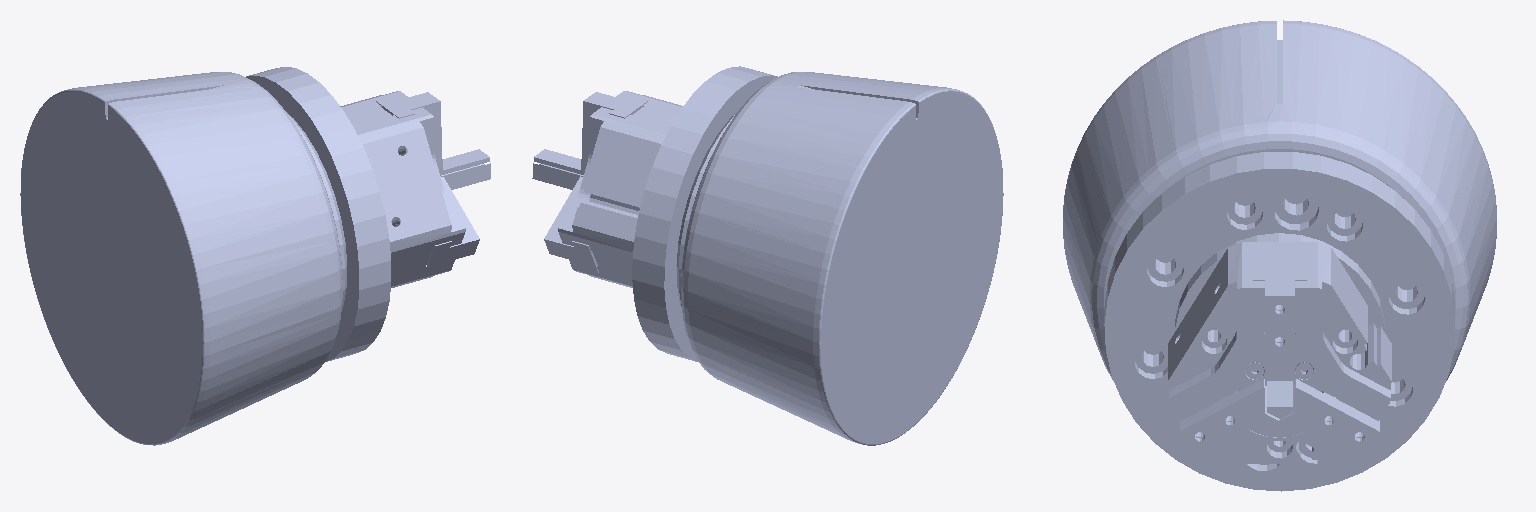
The robot description file, URDF, robot "resetrobot":
<?xml version="1.0" encoding="utf-8"?>
<!-- This URDF was automatically created by SolidWorks to URDF Exporter! Originally created by [author] ([email redacted]) 
     Commit Version: 1.6.0-1-g15f4949  Build Version: 1.6.7594.29634
     For more information, please see http://wiki.ros.org/sw_urdf_exporter -->
<robot
  name="resetrobot">
  <link
    name="base_link">
    <inertial>
      <origin
        xyz="-0.048537 7.2262E-08 0.084952"
        rpy="0 0 0" />
      <mass
        value="21.435" />
      <inertia
        ixx="0.20713"
        ixy="2.0266E-07"
        ixz="0.0078532"
        iyy="0.40868"
        iyz="6.1248E-08"
        izz="0.50173" />
    </inertial>
    <visual>
      <origin
        xyz="0 0 0"
        rpy="0 0 0" />
      <geometry>
        <mesh
          filename="package://resetrobot/meshes/base_link.STL" />
      </geometry>
      <material
        name="">
        <color
          rgba="0.79216 0.81961 0.93333 1" />
      </material>
    </visual>
    <collision>
      <origin
        xyz="0 0 0"
        rpy="0 0 0" />
      <geometry>
        <mesh
          filename="package://resetrobot/meshes/base_link.STL" />
      </geometry>
    </collision>
  </link>
  <link
    name="link_1">
    <inertial>
      <origin
        xyz="0.058504 0.018758 0.15092"
        rpy="0 0 0" />
      <mass
        value="25.307" />
      <inertia
        ixx="0.32227"
        ixy="-0.047774"
        ixz="-0.10939"
        iyy="0.51973"
        iyz="-0.023513"
        izz="0.48216" />
    </inertial>
    <visual>
      <origin
        xyz="0 0 0"
        rpy="0 0 0" />
      <geometry>
        <mesh
          filename="package://resetrobot/meshes/link_1.STL" />
      </geometry>
      <material
        name="">
        <color
          rgba="0.79216 0.81961 0.93333 1" />
      </material>
    </visual>
    <collision>
      <origin
        xyz="0 0 0"
        rpy="0 0 0" />
      <geometry>
        <mesh
          filename="package://resetrobot/meshes/link_1.STL" />
      </geometry>
    </collision>
  </link>
  <joint
    name="joint_1"
    type="revolute">
    <origin
      xyz="0 0 0.181"
      rpy="0 0 0" />
    <parent
      link="base_link" />
    <child
      link="link_1" />
    <axis
      xyz="0 0 1" />
    <limit
      lower="-2.87979327"
      upper="2.87979327"
      effort="0"
      velocity="0" />
  </joint>
  <link
    name="link_2">
    <inertial>
      <origin
        xyz="-0.016063 -0.28254 -0.079384"
        rpy="0 0 0" />
      <mass
        value="15.157" />
      <inertia
        ixx="0.85409"
        ixy="-0.0085112"
        ixz="-0.0041072"
        iyy="0.059494"
        iyz="-0.0050587"
        izz="0.86172" />
    </inertial>
    <visual>
      <origin
        xyz="0 0 0"
        rpy="0 0 0" />
      <geometry>
        <mesh
          filename="package://resetrobot/meshes/link_2.STL" />
      </geometry>
      <material
        name="">
        <color
          rgba="0.79216 0.81961 0.93333 1" />
      </material>
    </visual>
    <collision>
      <origin
        xyz="0 0 0"
        rpy="0 0 0" />
      <geometry>
        <mesh
          filename="package://resetrobot/meshes/link_2.STL" />
      </geometry>
    </collision>
  </link>
  <joint
    name="joint_2"
    type="revolute">
    <origin
      xyz="0.16933 -0.1005 0.21703"
      rpy="-1.5708 0 0" />
    <parent
      link="link_1" />
    <child
      link="link_2" />
    <axis
      xyz="0 0 1" />
    <limit
      lower="-1.65806279"
      upper="1.22173048"
      effort="0"
      velocity="0" />
  </joint>
  <link
    name="link_3">
    <inertial>
      <origin
        xyz="0.0062446 -0.075744 0.11093"
        rpy="0 0 0" />
      <mass
        value="9.9716" />
      <inertia
        ixx="0.10459"
        ixy="0.0035018"
        ixz="0.00046279"
        iyy="0.063616"
        iyz="-0.0056135"
        izz="0.10657" />
    </inertial>
    <visual>
      <origin
        xyz="0 0 0"
        rpy="0 0 0" />
      <geometry>
        <mesh
          filename="package://resetrobot/meshes/link_3.STL" />
      </geometry>
      <material
        name="">
        <color
          rgba="0.79216 0.81961 0.93333 1" />
      </material>
    </visual>
    <collision>
      <origin
        xyz="0 0 0"
        rpy="0 0 0" />
      <geometry>
        <mesh
          filename="package://resetrobot/meshes/link_3.STL" />
      </geometry>
    </collision>
  </link>
  <joint
    name="joint_3"
    type="revolute">
    <origin
      xyz="0 -0.65 0"
      rpy="0 0 0" />
    <parent
      link="link_2" />
    <child
      link="link_3" />
    <axis
      xyz="0 0 1" />
    <limit
      lower="-1.48352986"
      upper="1.65806279"
      effort="0"
      velocity="0" />
  </joint>
  <link
    name="link_4">
    <inertial>
      <origin
        xyz="1.0311E-07 -0.0077856 0.27219"
        rpy="0 0 0" />
      <mass
        value="5.2559" />
      <inertia
        ixx="0.10349"
        ixy="1.103E-10"
        ixz="2.5492E-09"
        iyy="0.09162"
        iyz="0.0033244"
        izz="0.020021" />
    </inertial>
    <visual>
      <origin
        xyz="0 0 0"
        rpy="0 0 0" />
      <geometry>
        <mesh
          filename="package://resetrobot/meshes/link_4.STL" />
      </geometry>
      <material
        name="">
        <color
          rgba="0.79216 0.81961 0.93333 1" />
      </material>
    </visual>
    <collision>
      <origin
        xyz="0 0 0"
        rpy="0 0 0" />
      <geometry>
        <mesh
          filename="package://resetrobot/meshes/link_4.STL" />
      </geometry>
    </collision>
  </link>
  <joint
    name="joint_4"
    type="revolute">
    <origin
      xyz="0.131 -0.15574 0.1035"
      rpy="-1.5708 0 -1.5708" />
    <parent
      link="link_3" />
    <child
      link="link_4" />
    <axis
      xyz="0 0 1" />
    <limit
      lower="-3.14159265"
      upper="3.14159265"
      effort="0"
      velocity="0" />
  </joint>
  <link
    name="link_5">
    <inertial>
      <origin
        xyz="0.0010269 0.030968 -2.2367E-10"
        rpy="0 0 0" />
      <mass
        value="1.2009" />
      <inertia
        ixx="0.003095"
        ixy="-5.2043E-05"
        ixz="5.0414E-10"
        iyy="0.0015215"
        iyz="-1.6327E-11"
        izz="0.00339" />
    </inertial>
    <visual>
      <origin
        xyz="0 0 0"
        rpy="0 0 0" />
      <geometry>
        <mesh
          filename="package://resetrobot/meshes/link_5.STL" />
      </geometry>
      <material
        name="">
        <color
          rgba="0.79216 0.81961 0.93333 1" />
      </material>
    </visual>
    <collision>
      <origin
        xyz="0 0 0"
        rpy="0 0 0" />
      <geometry>
        <mesh
          filename="package://resetrobot/meshes/link_5.STL" />
      </geometry>
    </collision>
  </link>
  <joint
    name="joint_5"
    type="revolute">
    <origin
      xyz="0 0 0.424"
      rpy="1.5708 0 0" />
    <parent
      link="link_4" />
    <child
      link="link_5" />
    <axis
      xyz="0 0 1" />
    <limit
      lower="-2.00712864"
      upper="2.00712864"
      effort="0"
      velocity="0" />
  </joint>
  <link
    name="link_6">
    <inertial>
      <origin
        xyz="0.00077739 6.5833E-16 0.023913"
        rpy="0 0 0" />
      <mass
        value="0.33812" />
      <inertia
        ixx="0.00025389"
        ixy="-6.1509E-18"
        ixz="3.5816E-06"
        iyy="0.00025346"
        iyz="-1.7043E-17"
        izz="0.00036354" />
    </inertial>
    <visual>
      <origin
        xyz="0 0 0"
        rpy="0 0 0" />
      <geometry>
        <mesh
          filename="package://resetrobot/meshes/link_6.STL" />
      </geometry>
      <material
        name="">
        <color
          rgba="0.79216 0.81961 0.93333 1" />
      </material>
    </visual>
    <collision>
      <origin
        xyz="0 0 0"
        rpy="0 0 0" />
      <geometry>
        <mesh
          filename="package://resetrobot/meshes/link_6.STL" />
      </geometry>
    </collision>
  </link>
  <joint
    name="joint_6"
    type="revolute">
    <origin
      xyz="0.0036667 0.10994 0"
      rpy="-1.5708 0 0" />
    <parent
      link="link_5" />
    <child
      link="link_6" />
    <axis
      xyz="0.033333 0 0.99944" />
    <limit
      lower="-6.2832"
      upper="6.2832"
      effort="0"
      velocity="0" />
  </joint>
  <link
    name="last_link">
    <inertial>
      <origin
        xyz="-1.6876E-05 -2.9501E-05 0.0067938"
        rpy="0 0 0" />
      <mass
        value="0.046343" />
      <inertia
        ixx="1.9745E-05"
        ixy="-1.1087E-07"
        ixz="2.1962E-09"
        iyy="1.8881E-05"
        iyz="3.8641E-09"
        izz="3.727E-05" />
    </inertial>
    <visual>
      <origin
        xyz="0 0 0"
        rpy="0 0 0" />
      <geometry>
        <mesh
          filename="package://resetrobot/meshes/last_link.STL" />
      </geometry>
      <material
        name="">
        <color
          rgba="0.79216 0.81961 0.93333 1" />
      </material>
    </visual>
    <collision>
      <origin
        xyz="0 0 0"
        rpy="0 0 0" />
      <geometry>
        <mesh
          filename="package://resetrobot/meshes/last_link.STL" />
      </geometry>
    </collision>
  </link>
  <joint
    name="last_joint"
    type="continuous">
    <origin
      xyz="0.0018 0 0.05397"
      rpy="0 0.03334 0" />
    <parent
      link="link_6" />
    <child
      link="last_link" />
    <axis
      xyz="0 0 1" />
    <limit
      lower="0"
      upper="0"
      effort="0"
      velocity="0" />
  </joint>
</robot>

--- Facts derived from the render (not from the file) ---
3 views of the same robot in one strip: view 1: azimuth 30°, elevation 25°; view 2: azimuth 150°, elevation 25°; view 3: azimuth 270°, elevation 25° (orthographic).
Model resetrobot with 8 links and 7 joints (6 revolute, 1 continuous), rooted at base_link, posed all joints at 0.
Visible links, largest first — view 1: link_6, last_link; view 2: link_6, last_link; view 3: last_link, link_6.
Boxes of the visible links, bbox=[...] form: link_6: bbox=[20, 72, 346, 445]; last_link: bbox=[246, 67, 490, 361]; link_6: bbox=[676, 72, 1003, 445]; last_link: bbox=[532, 66, 777, 361]; last_link: bbox=[1104, 152, 1454, 491]; link_6: bbox=[1063, 20, 1496, 382].
Size in the robot's own frame: 0.1179 by 0.0989 by 0.099 metres.
Meshes: 8 distinct files referenced, 2 mesh visuals loaded (2 binary STL); not drawn: 6 (reference not matched to a file when rendering).